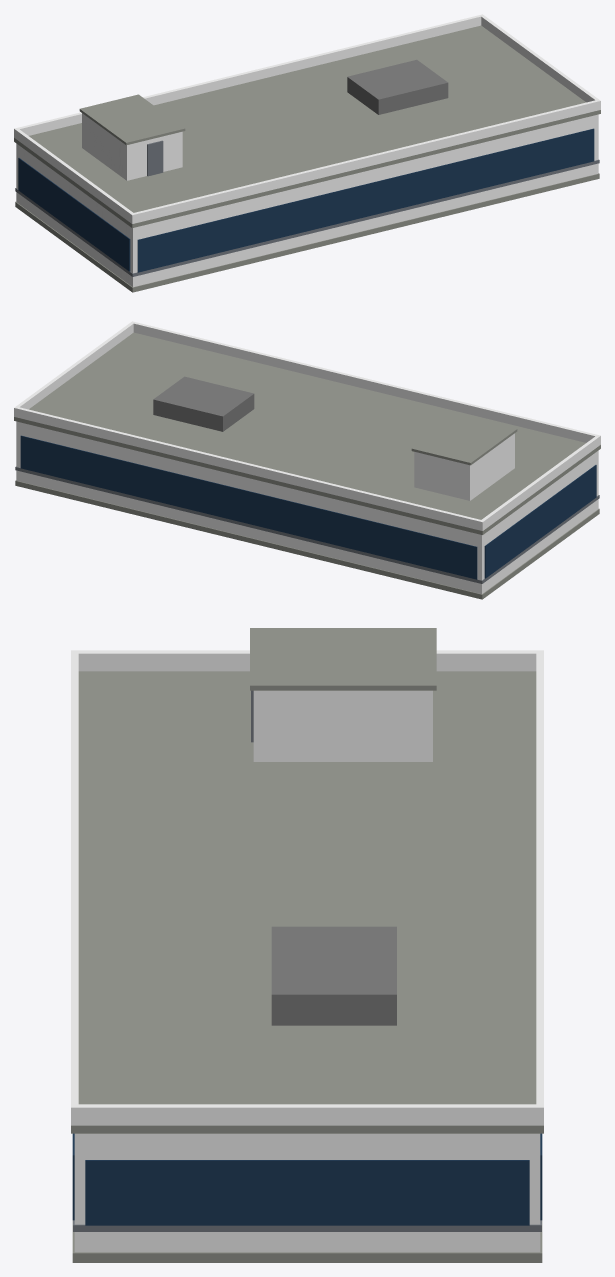
Rendered from mashup-lecture-top-prebuilt.fbx.
The picture shows the model from 3 angles, top to bottom: view 1: azimuth 30°, elevation 25°; view 2: azimuth 150°, elevation 25°; view 3: azimuth 270°, elevation 25°; orthographic projection. The views are drawn at different scales.
Visible parts, largest first — view 1: a201.LectureTop; view 2: a201.LectureTop; view 3: a201.LectureTop.
Part boxes in pixels (<box>): a201.LectureTop: <box>14,14,600,292</box>; a201.LectureTop: <box>14,321,600,599</box>; a201.LectureTop: <box>71,628,543,1262</box>.
Bounding box in the file's own units: 30.2 × 6.65 × 13.2.
